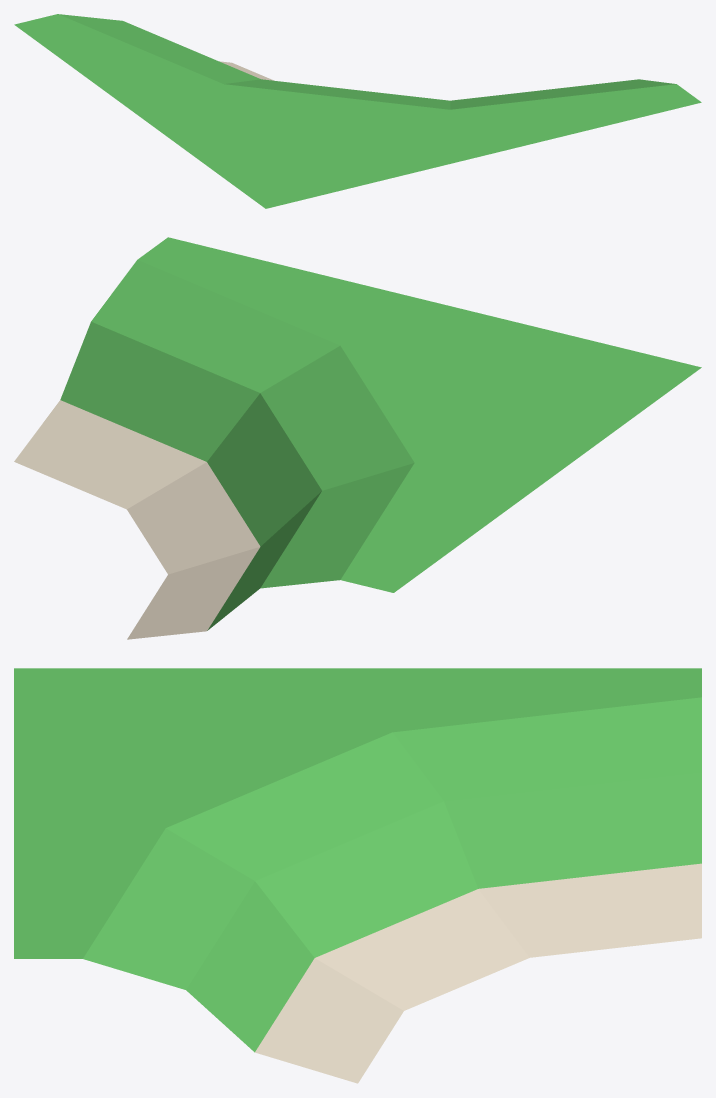
Rendered from Hilly_Terrain_Path_Corner_Outer_1x1.glb.
The picture shows the model from 3 angles, top to bottom: view 1: azimuth 30°, elevation 25°; view 2: azimuth 150°, elevation 25°; view 3: azimuth 270°, elevation 25°; orthographic projection. The views are drawn at different scales.
Visible parts, largest first — view 1: Hilly_Terrain_Path_Corner_Outer_1x1; view 2: Hilly_Terrain_Path_Corner_Outer_1x1; view 3: Hilly_Terrain_Path_Corner_Outer_1x1.
Part boxes in pixels (<box>): Hilly_Terrain_Path_Corner_Outer_1x1: <box>14,14,701,208</box>; Hilly_Terrain_Path_Corner_Outer_1x1: <box>14,237,701,639</box>; Hilly_Terrain_Path_Corner_Outer_1x1: <box>14,668,701,1083</box>.
Bounding box in the file's own units: 0.53 × 0.106 × 0.53.
